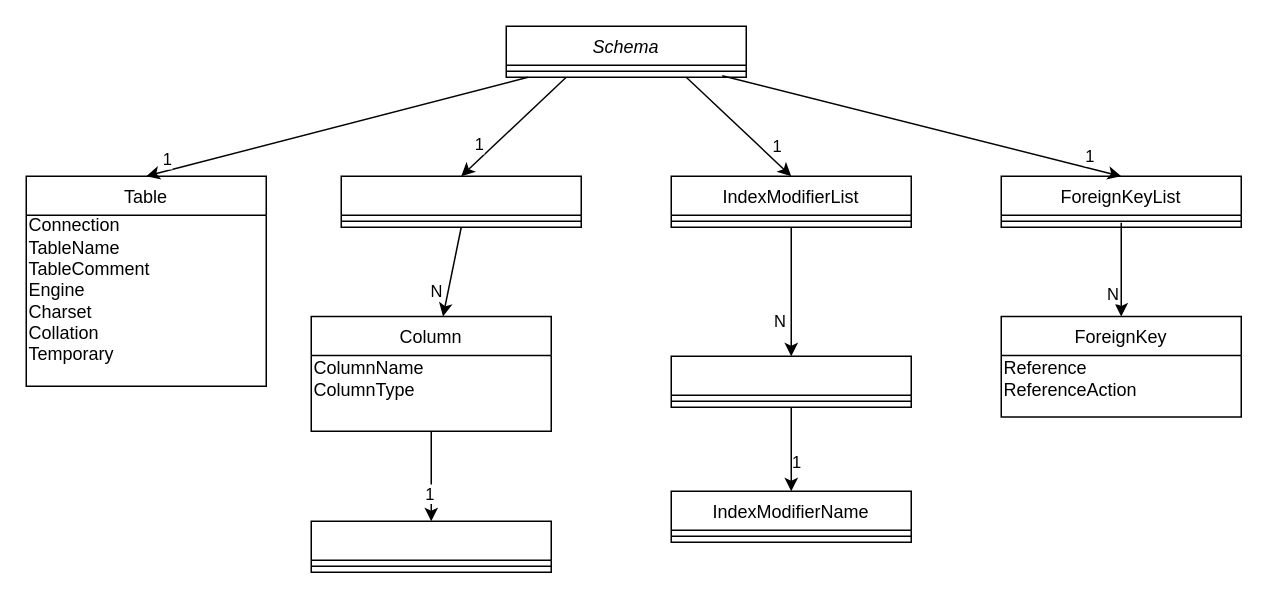
The diagram is 1268 pixels wide and 599 high, and some of its shapes have lost their labels. The box of each missing label's shape, as (x1, y1, x2, y2) in pixels:
ColumnList: (340, 175, 581, 227)
ColumnModifierList: (310, 520, 551, 572)
IndexModifier: (670, 355, 911, 407)
